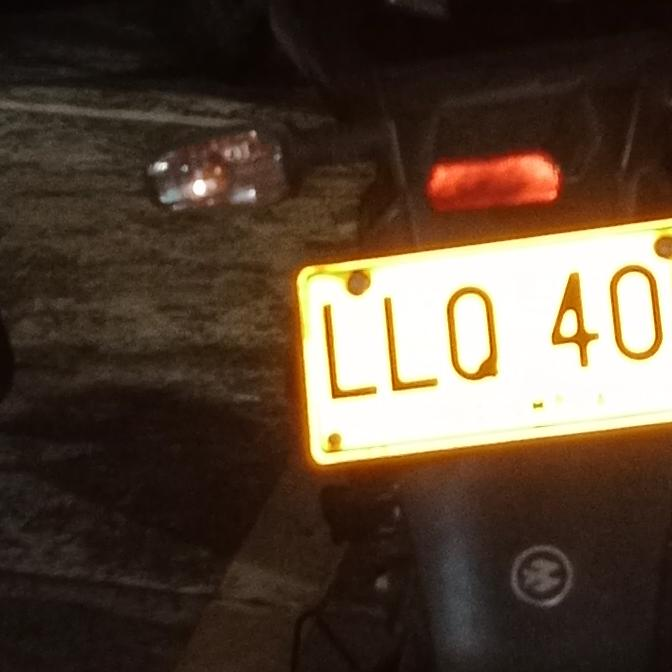plates: (296, 213, 672, 462)
